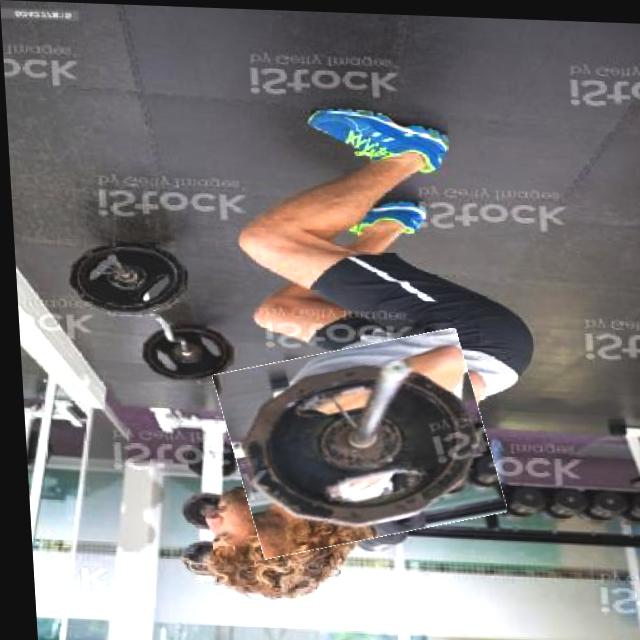barbell: (216, 332, 496, 553)
